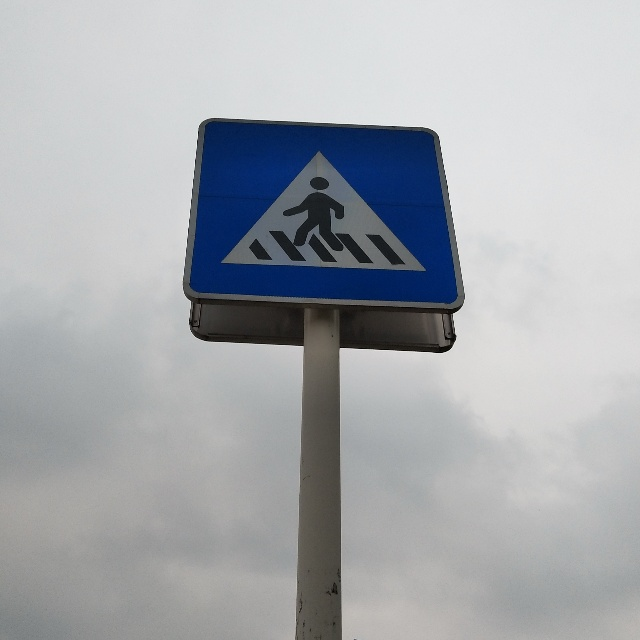crosswalk: (209, 126, 427, 298)
